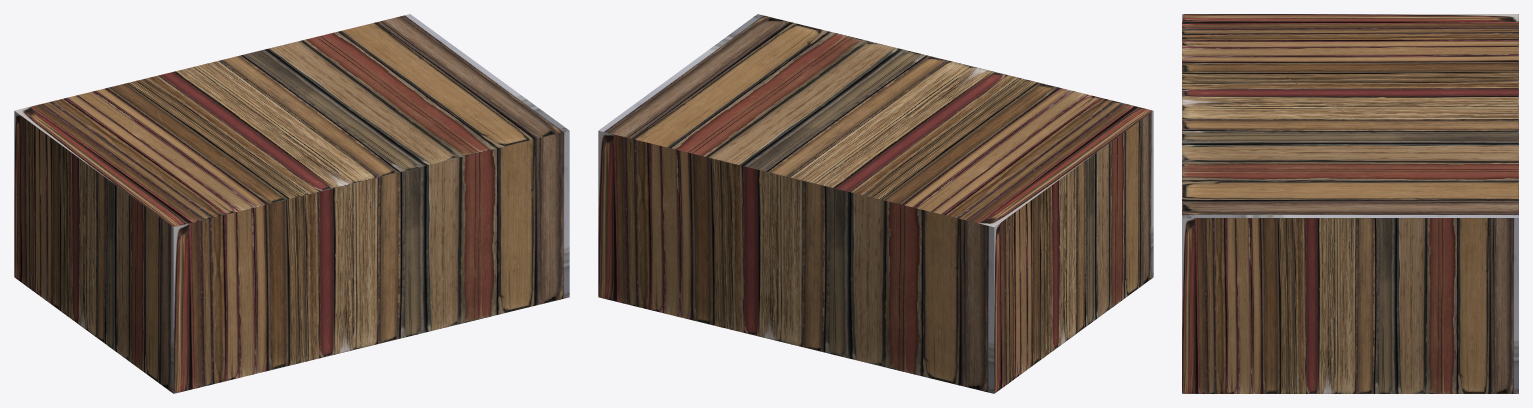
Rendered from livres.FBX.
3 renders of one model, left to right at view 1: azimuth 30°, elevation 25°; view 2: azimuth 150°, elevation 25°; view 3: azimuth 270°, elevation 25°, orthographic. The views are drawn at different scales.
Parts seen in each view (by area): view 1: Boîte001; view 2: Boîte001; view 3: Boîte001.
Boxes of the visible parts, box(x1,y1,x2,y2) form: Boîte001: box(14, 14, 569, 393); Boîte001: box(598, 14, 1153, 393); Boîte001: box(1182, 14, 1518, 393).
Bounding box in the file's own units: 14.81 × 5.95 × 10.32.
Materials: 1 (1 with a texture image).
